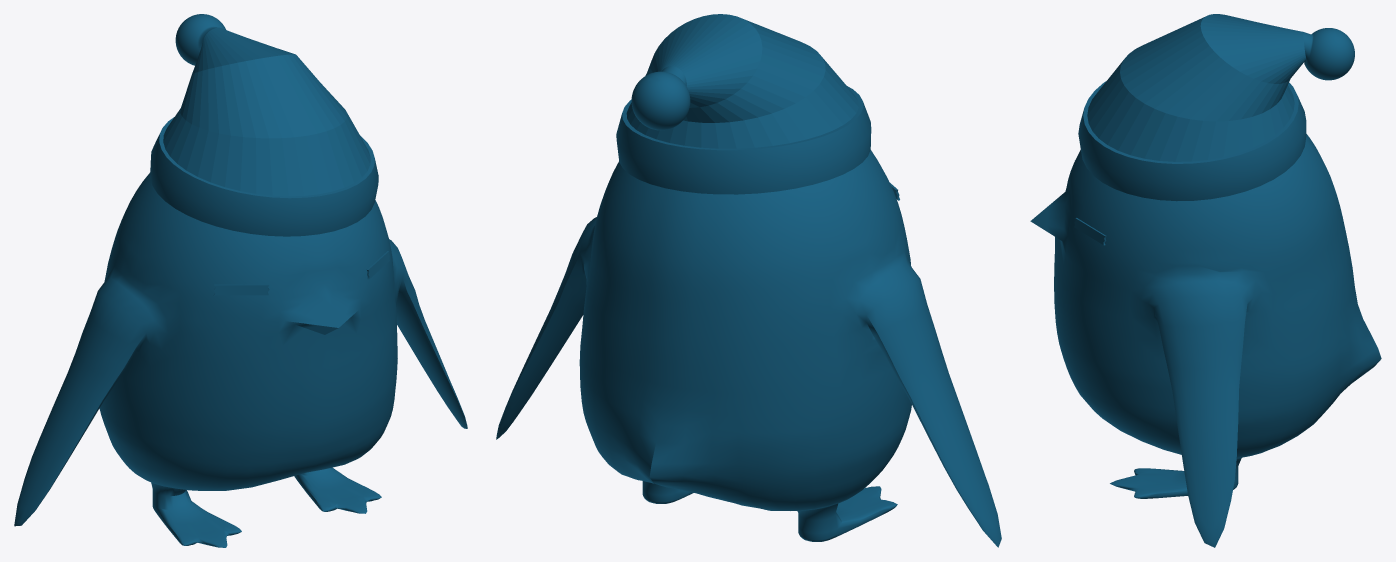
Rendered from penguin_blue_idle_32f.fbx.
3 views of the same model, side by side, from view 1: azimuth 30°, elevation 25°; view 2: azimuth 150°, elevation 25°; view 3: azimuth 270°, elevation 25° (orthographic). The views are drawn at different scales.
Visible parts, largest first — view 1: ppp_32, bousi, ai; view 2: ppp_32, bousi; view 3: ppp_32, bousi.
Part boxes in pixels (x1,y1,x2,y2): ppp_32: (14, 172, 467, 547); bousi: (150, 14, 378, 236); ai: (214, 251, 389, 295); ppp_32: (496, 150, 1001, 547); bousi: (616, 14, 871, 194); ppp_32: (1030, 134, 1381, 547); bousi: (1078, 14, 1354, 201).
Size of the model in its own units: 21.59 by 20.1 by 14.66.
1 material, 1 textured.
